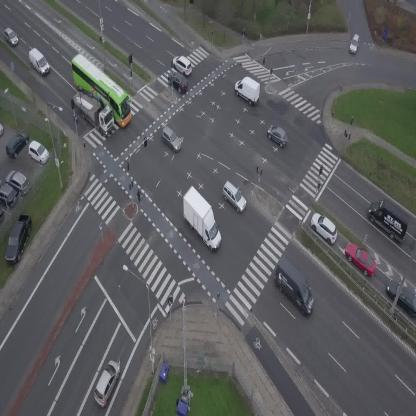bicycle: (134, 189, 144, 207)
bus: (62, 50, 142, 127)
car: (340, 237, 382, 281), (89, 358, 124, 408), (305, 209, 343, 247), (217, 180, 251, 214), (156, 124, 186, 154), (262, 121, 292, 149), (164, 67, 192, 95), (168, 52, 197, 79), (0, 26, 20, 49), (349, 33, 360, 54)
lorry: (170, 183, 234, 255), (262, 254, 326, 318), (66, 83, 123, 138), (229, 72, 266, 108), (24, 46, 54, 76)
